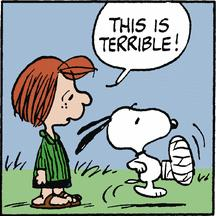snoopy: (76, 102, 198, 198)
